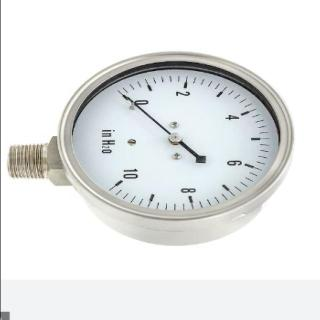gauge: (46, 49, 304, 266), (105, 175, 130, 199), (112, 84, 136, 108), (168, 131, 182, 144), (118, 91, 130, 101)
